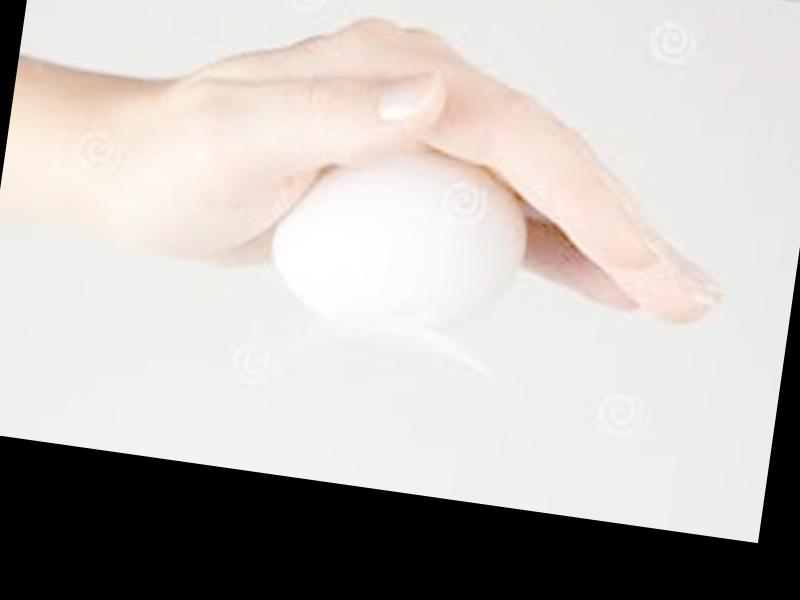Eggs: (261, 133, 540, 341)
